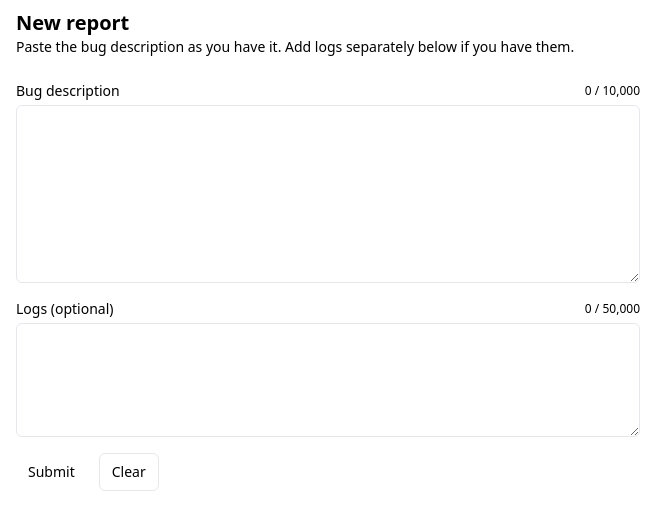
NewReport › Clear button › empties the box after the user confirms
The image size is (657, 508).
Type "Some text that will be cleared afterwards." into the text box labelled "Bug description". click: (328, 194)
box: [16,105,640,283]
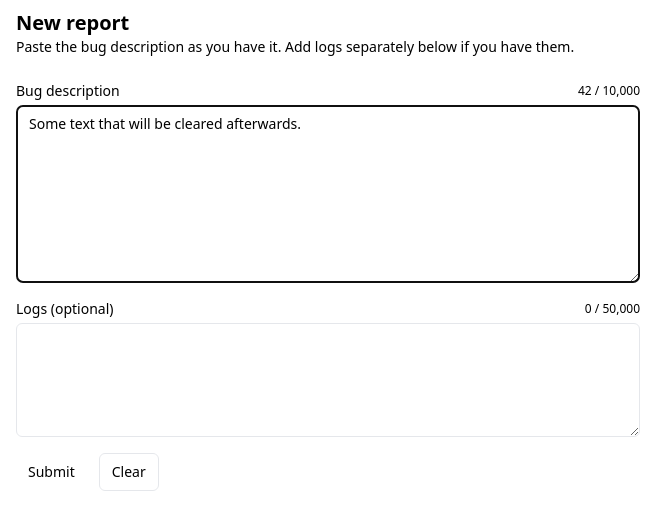
Click the button "Clear". click: (129, 472)
box: [99,453,159,491]
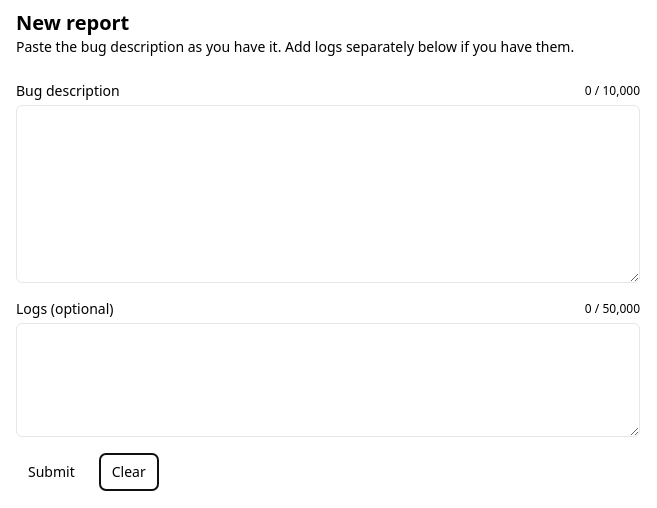
expect the text box labelled "Bug description" is empty: met, box [16,105,640,283]
